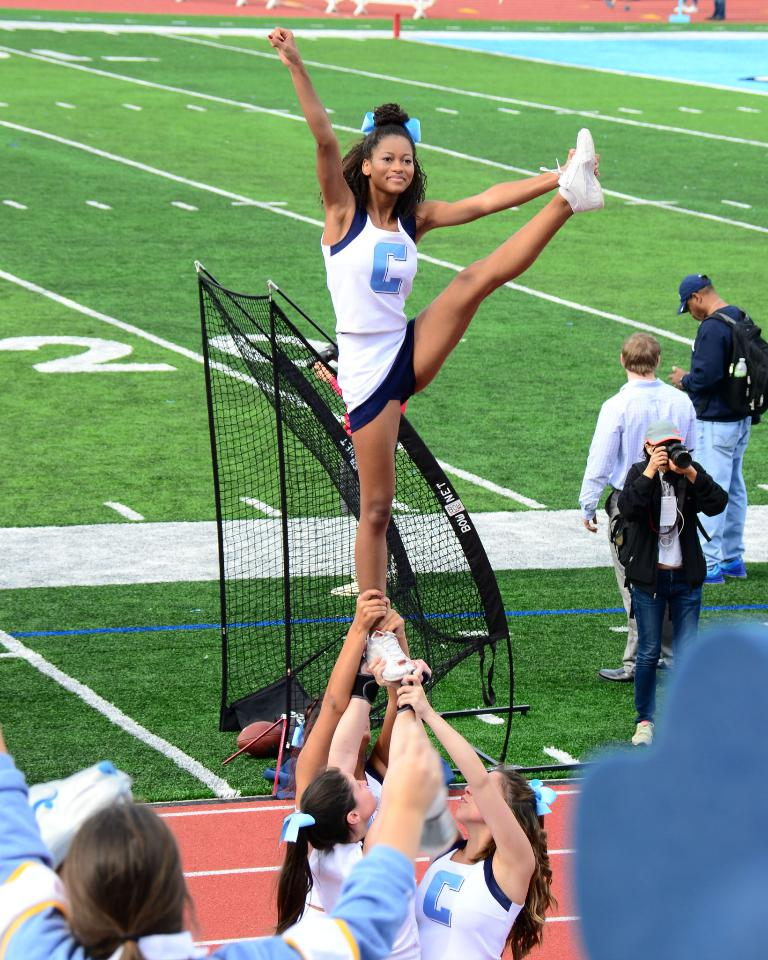Person: (269, 25, 606, 682), (271, 586, 560, 960), (0, 725, 444, 959), (614, 418, 727, 745)
